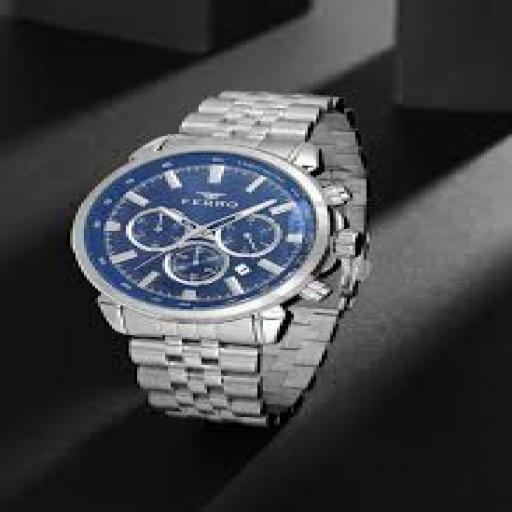KolSaati: (43, 66, 428, 456)
